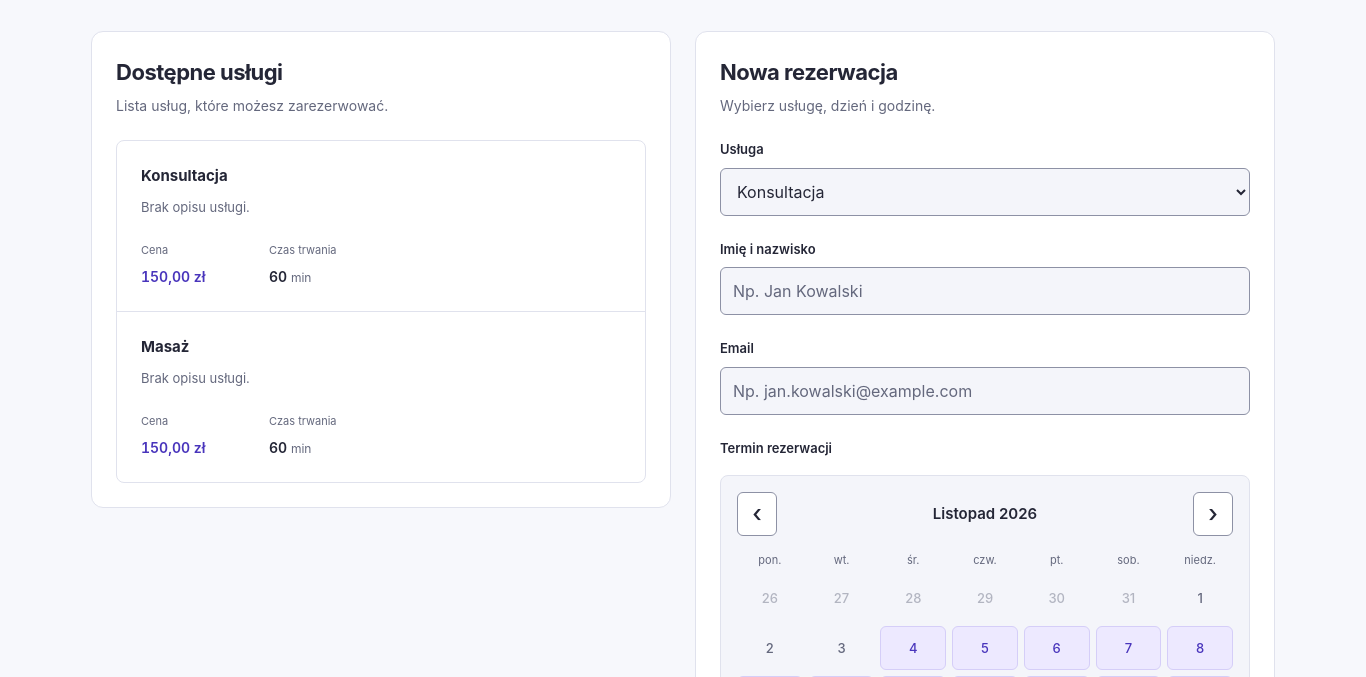
Scenario: availability request counts › refetches a selected day after the short cache lifetime without refetching the month
This screenshot has width=1366, height=677.
Click the button "4": (913,648) [880,626,946,670]
(page scrolled)
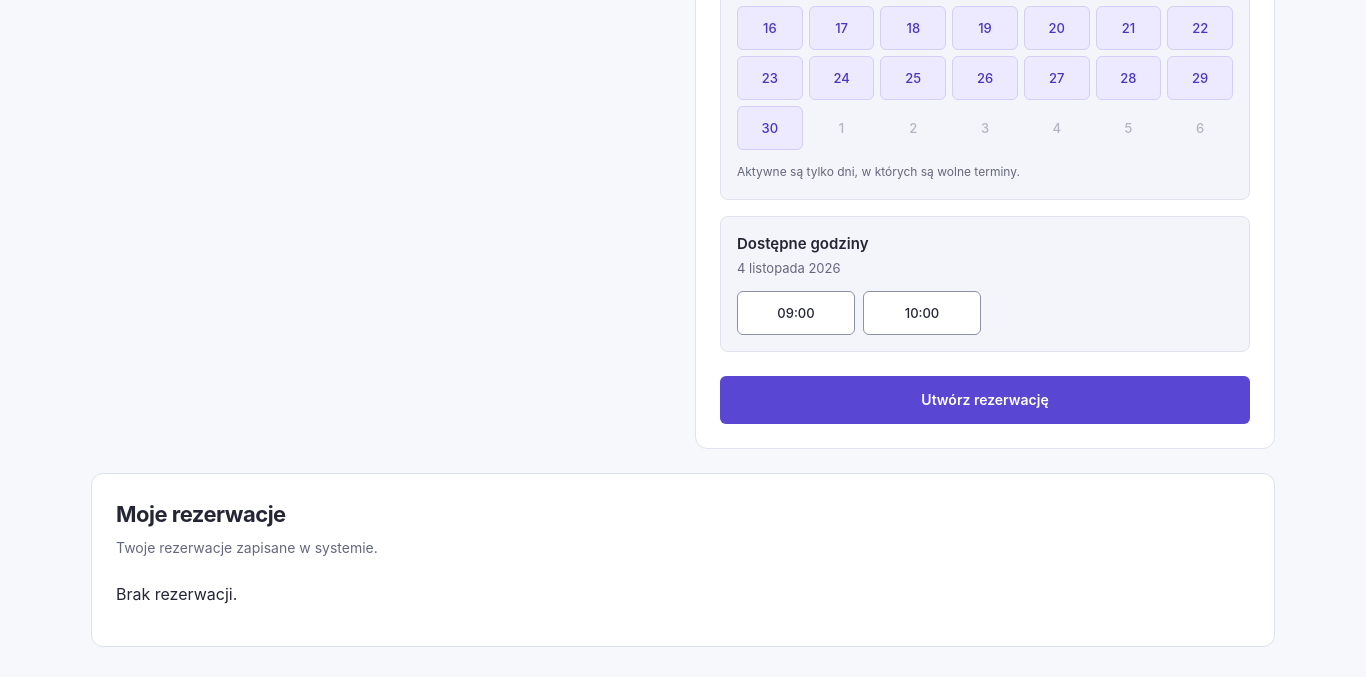
Result: the button "09:00" is shown at [737,291,855,335]
